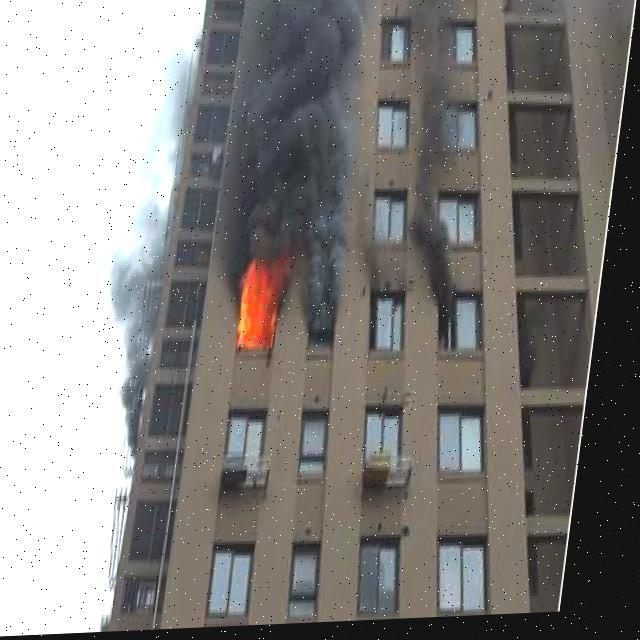Fire: (236, 240, 299, 364)
